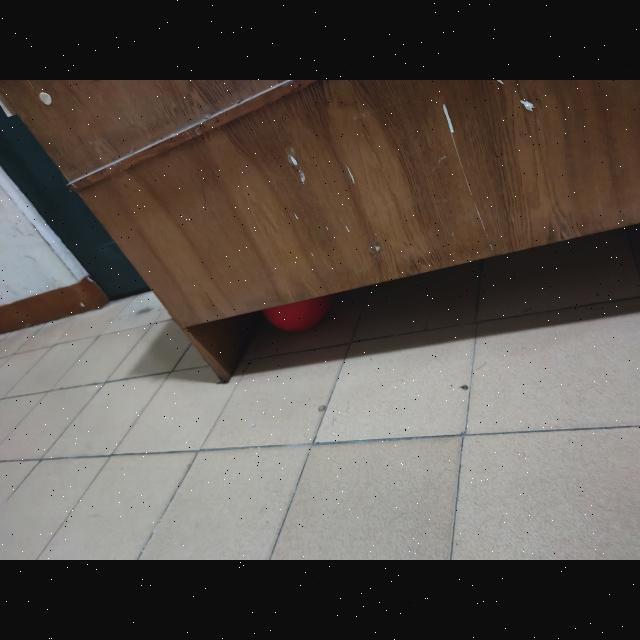R: (263, 268, 331, 332)
